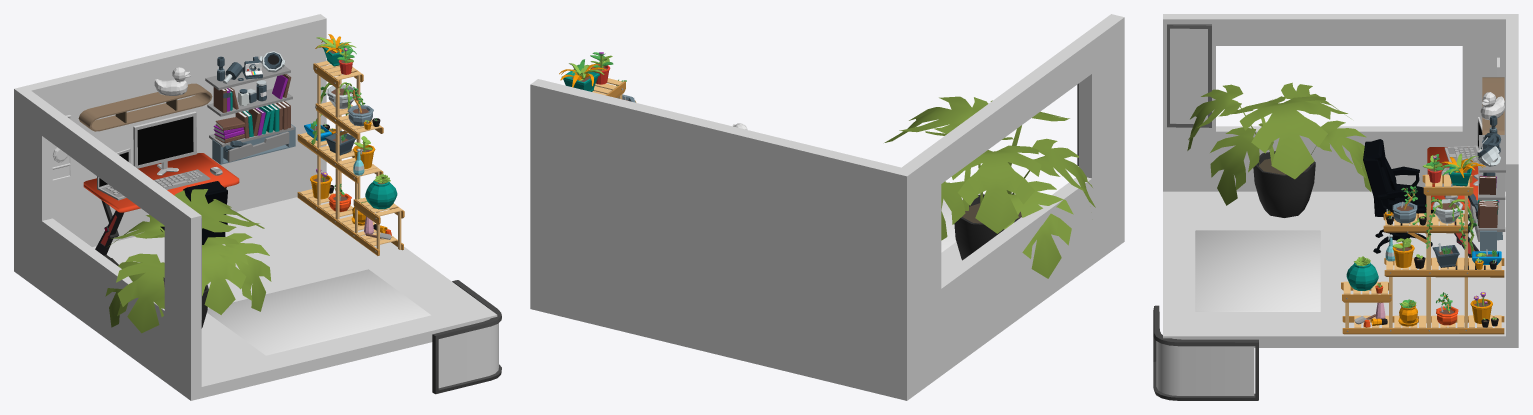
Rendered from test_scene_new_full-lightmap.glb.
3 views of the same model, side by side, from view 1: azimuth 30°, elevation 25°; view 2: azimuth 150°, elevation 25°; view 3: azimuth 270°, elevation 25° (orthographic). The views are drawn at different scales.
Visible parts, largest first — view 1: Room, PlantShelf, Rug, Plant, ShelfClutter, SignCorner, Computer, SimpleShelf, Desk, Chair, Duck, Hal; view 2: Room, Plant, PlantShelf; view 3: Room, PlantShelf, Plant, Rug, SignCorner, SignWall, ShelfClutter, Chair, Desk, Computer, SimpleShelf, Duck.
Boxes of the visible parts, box(x1,y1,x2,y2) form: Room: box(14, 14, 497, 400); PlantShelf: box(297, 34, 404, 255); Rug: box(207, 269, 430, 355); Plant: box(105, 189, 271, 333); ShelfClutter: box(205, 51, 295, 164); SignCorner: box(432, 280, 501, 394); Computer: box(97, 111, 222, 200); SimpleShelf: box(78, 83, 212, 131); Desk: box(83, 153, 239, 265); Chair: box(160, 181, 227, 244); Duck: box(154, 67, 190, 95); Hal: box(52, 115, 71, 180); Room: box(530, 14, 1124, 400); Plant: box(884, 96, 1095, 278); PlantShelf: box(559, 52, 636, 102); Room: box(1163, 14, 1518, 347); PlantShelf: box(1341, 153, 1504, 334); Plant: box(1187, 82, 1371, 217); Rug: box(1195, 230, 1320, 311); SignCorner: box(1153, 305, 1258, 400); SignWall: box(1167, 24, 1211, 127); ShelfClutter: box(1468, 115, 1505, 250); Chair: box(1363, 139, 1433, 253); Desk: box(1427, 147, 1485, 269); Computer: box(1441, 117, 1482, 199); SimpleShelf: box(1482, 77, 1504, 134); Duck: box(1480, 92, 1504, 120).
Size of the model in its own units: 4.42 by 2.9 by 4.11.
